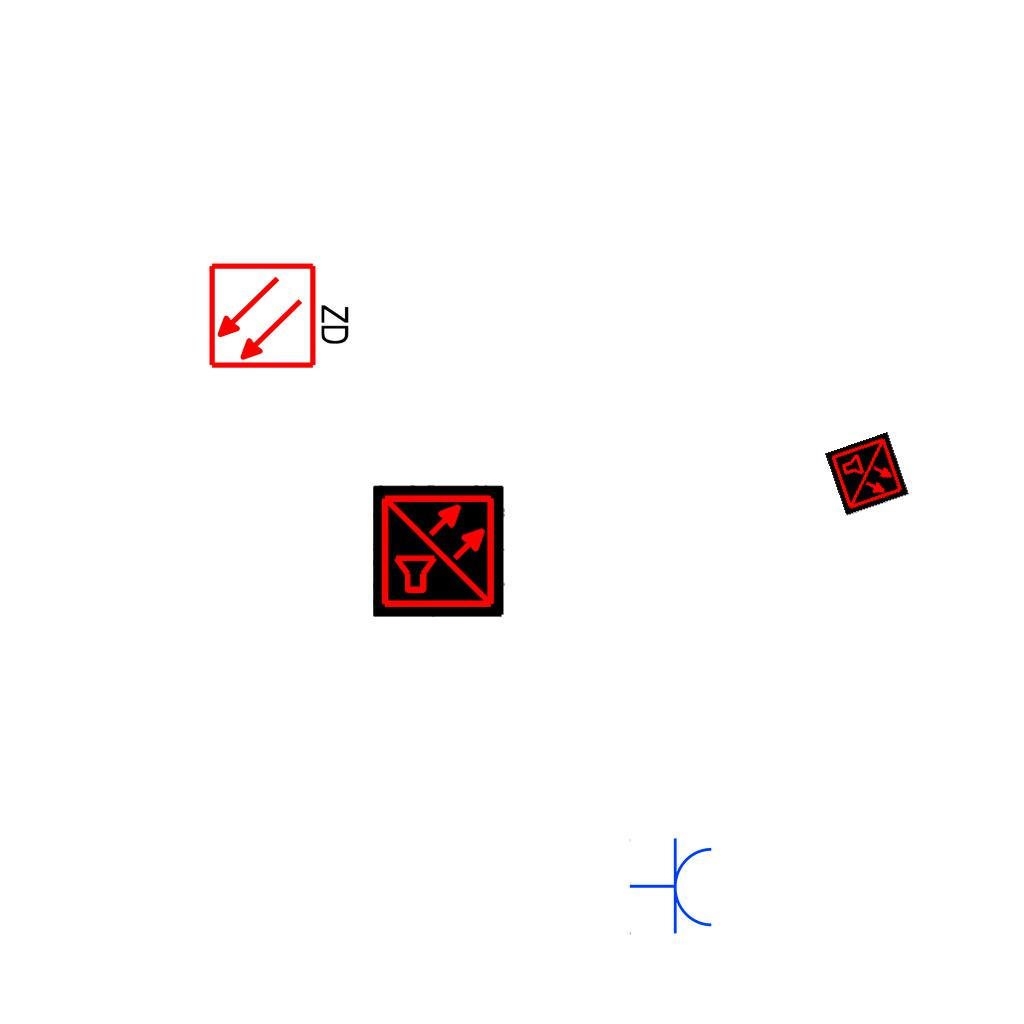OKW_Multisensormelder_(Kombination_optischer_Rauch-Kahlenmonoxid_Waerme-Melder): (373, 485, 505, 617), (825, 432, 909, 516)
Schukosteckdose_einfach: (629, 837, 716, 937)
ZD_Melder_in_Zwischendecke_mit_Revisionsoeffnung_mind_40_x_40_cm: (207, 257, 356, 371)
